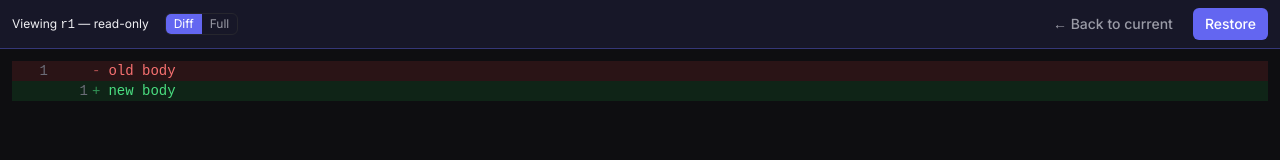
RevisionView › toggles to Full mode showing only the revision contents
The width and height of the screenshot is (1280, 160).
Expected: the text "new body" is shown, [108, 83, 176, 99]
Click the button "Full" at (220, 24), box [202, 14, 237, 34]
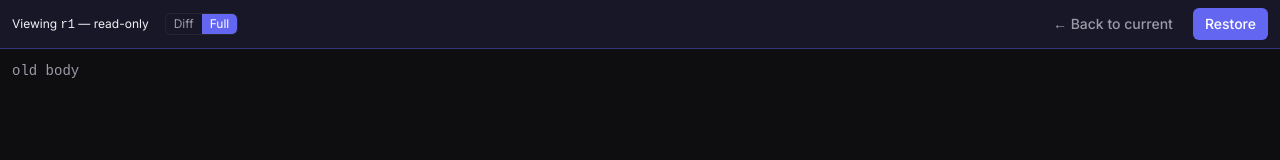
Expected: the text "old body" is shown, [12, 63, 79, 79]
Result: the text "new body" is gone
